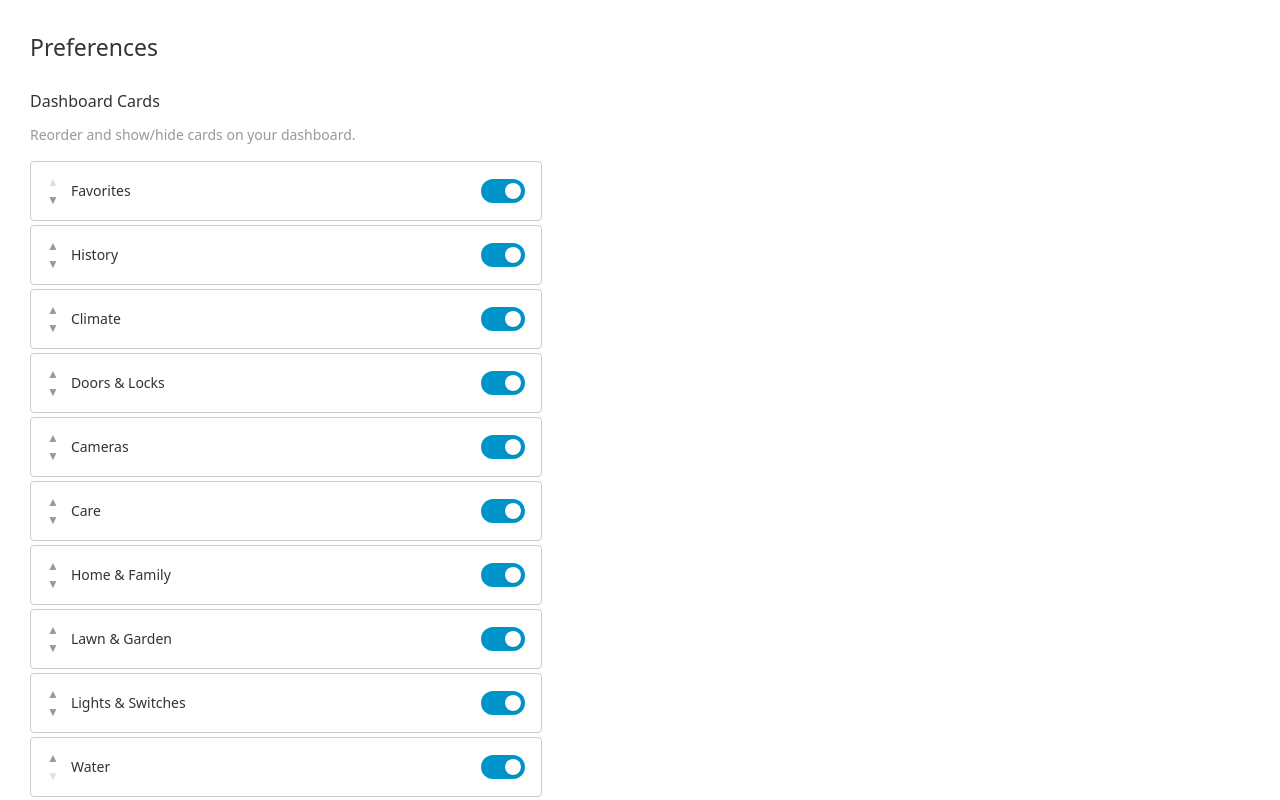
Test case: PreferencesPage – interactions › shows Save button after reordering
Check: the text "Favorites" is shown, box left=71, top=180, right=131, bottom=200
Click the button named "Move down": (53, 200) left=47, top=192, right=59, bottom=208
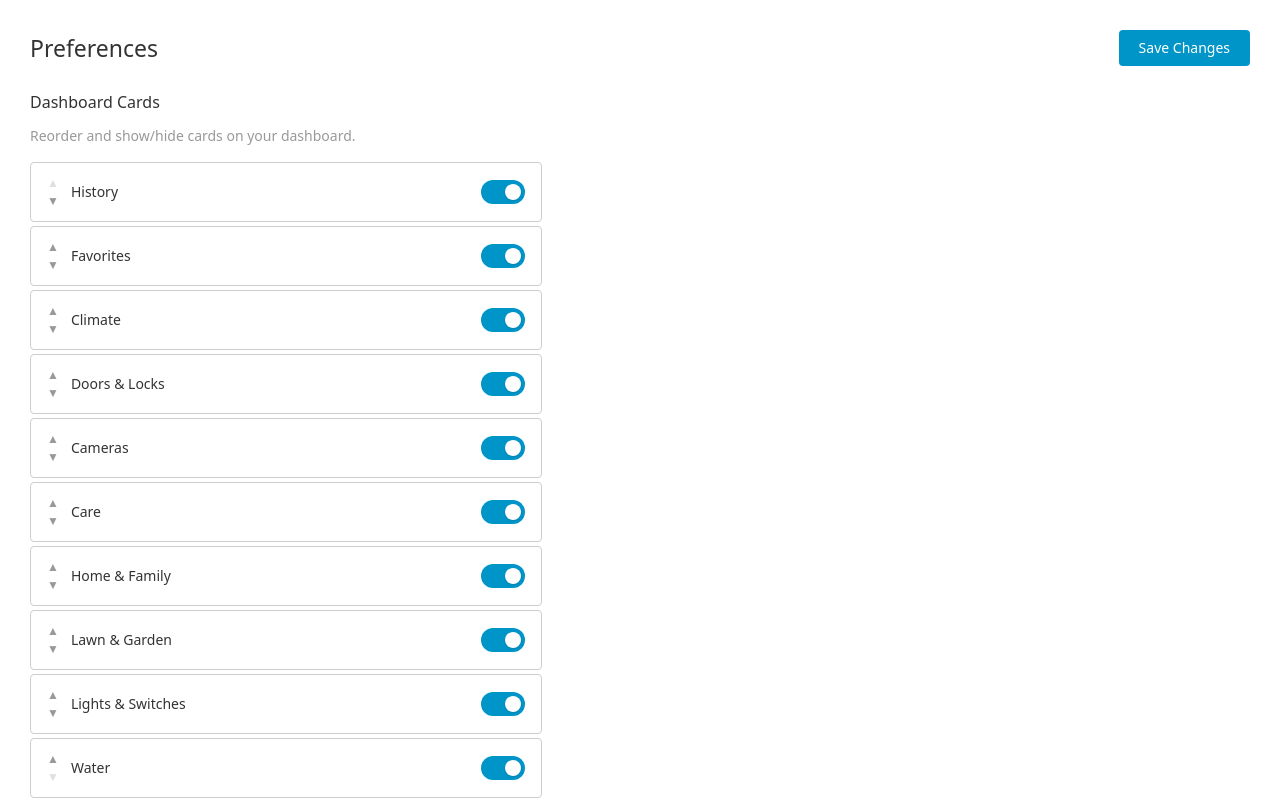
Check: the button "Save Changes" is shown, box left=1119, top=30, right=1250, bottom=66
